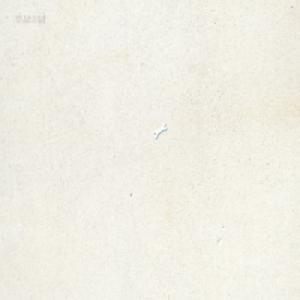Wrench: (153, 123, 167, 138)
